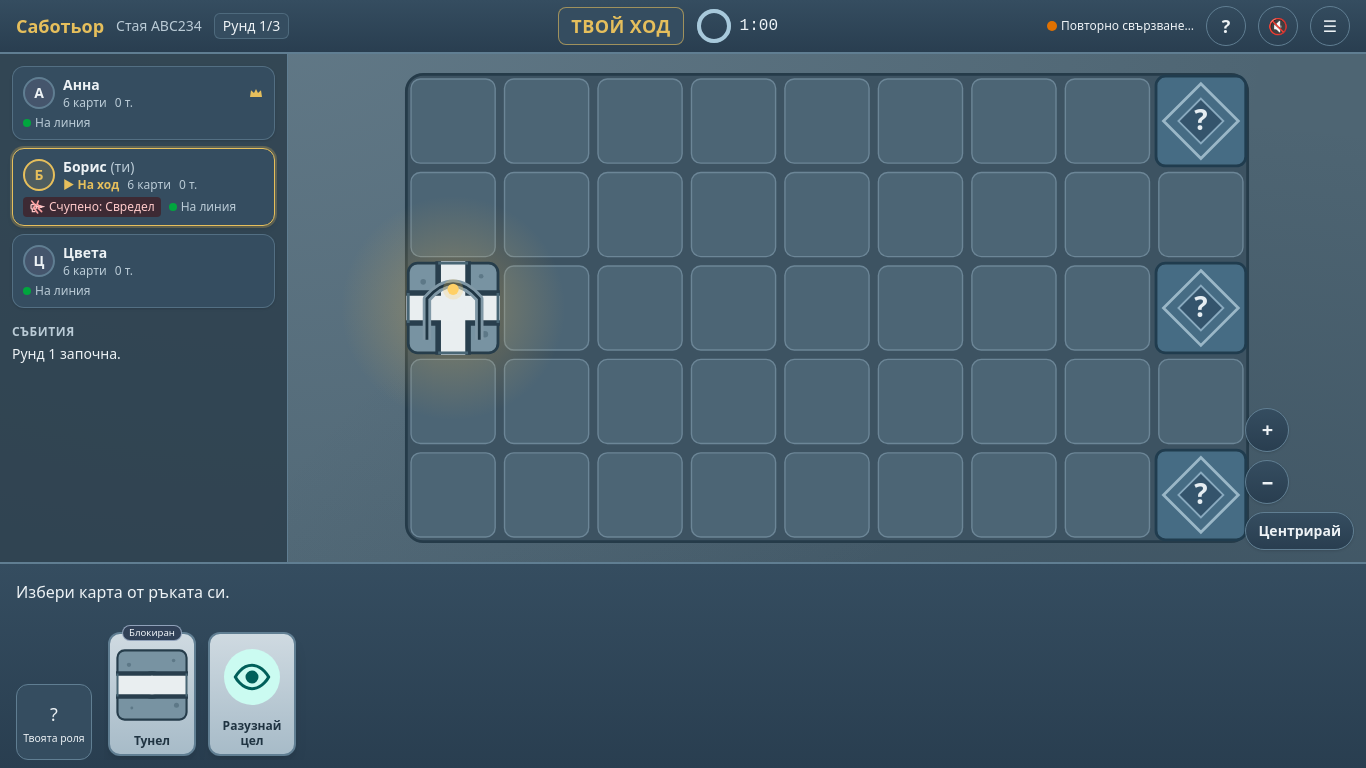
it: game screen › explains why tunnels cannot be placed while a tool is broken
Expected: the list named "Твоите карти" is shown, [108,632,296,756]
Click the button "Тунел Блокиран".
click(152, 694)  # box [108,632,196,756]
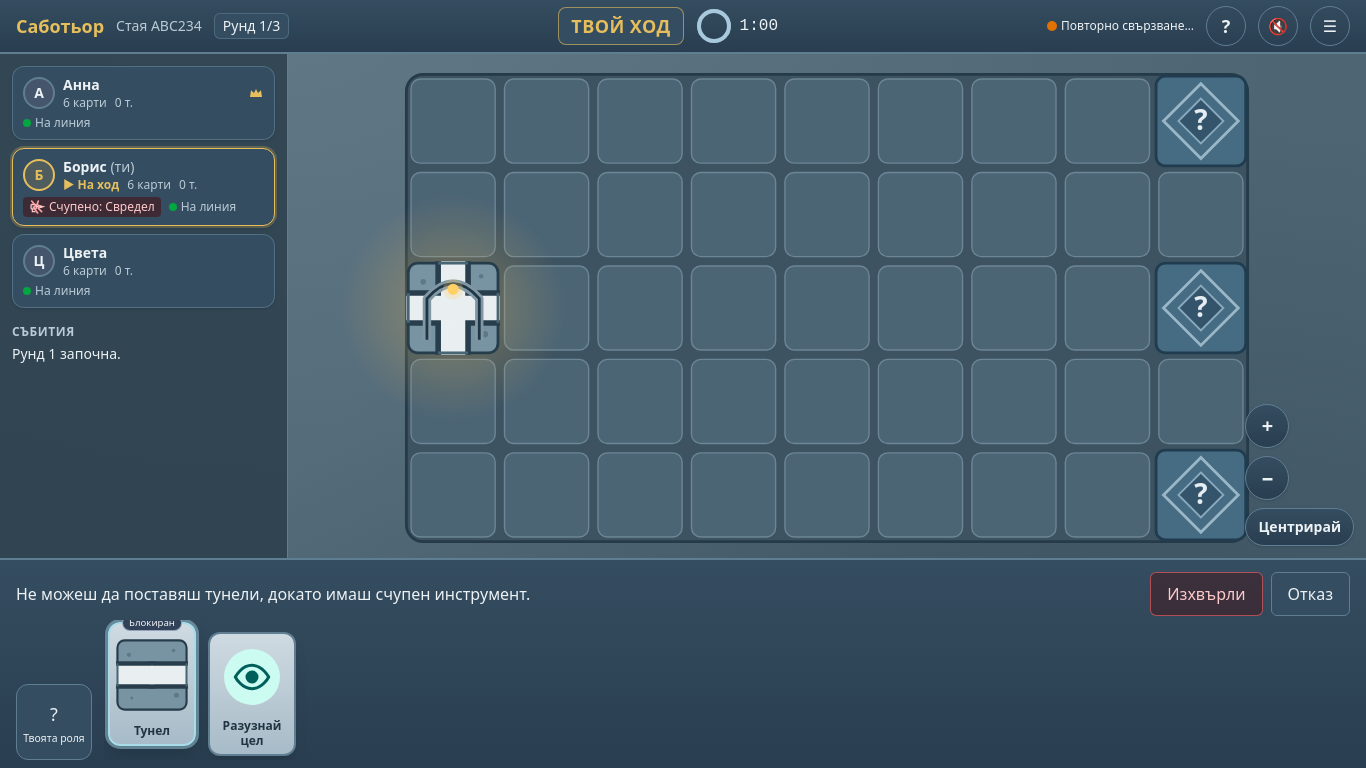
Expected: the text "Не можеш да поставяш тунели, докато имаш счупен инструмент." is shown, [16,582,530,606]
